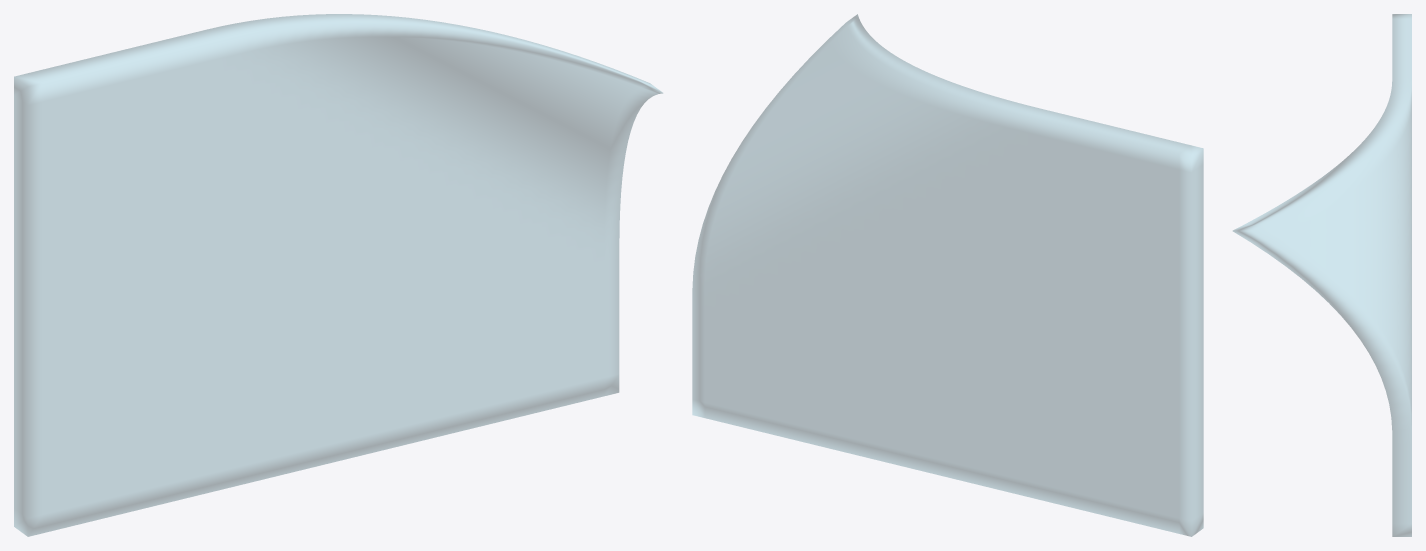
3 renders of one model, left to right at view 1: azimuth 30°, elevation 25°; view 2: azimuth 150°, elevation 25°; view 3: azimuth 270°, elevation 25°, orthographic. The views are drawn at different scales.
Visible parts, largest first — view 1: curled-panel; view 2: curled-panel; view 3: curled-panel.
Part boxes in pixels (x1=…): curled-panel: x1=14, y1=14, x2=662, y2=536; curled-panel: x1=692, y1=14, x2=1203, y2=536; curled-panel: x1=1233, y1=14, x2=1411, y2=536.
Bounding box in the file's own units: 2.2 × 1.6 × 0.819.
